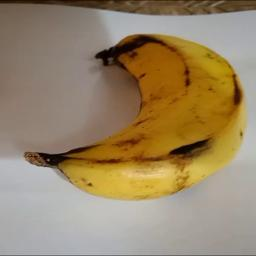Banana Semifresh: (21, 27, 248, 201)
